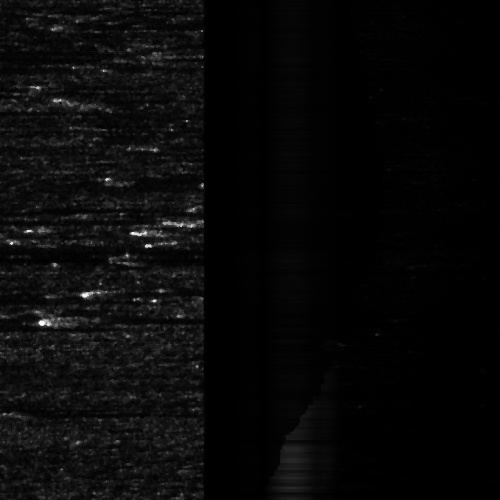object: (0, 224, 41, 265), (63, 283, 146, 300), (41, 311, 114, 322), (122, 250, 163, 265), (0, 404, 33, 417)
shadow: (0, 224, 162, 265), (0, 293, 128, 306), (105, 283, 185, 300), (143, 250, 221, 265), (6, 404, 91, 417), (0, 213, 109, 222), (78, 311, 158, 322), (0, 140, 66, 153), (0, 322, 111, 329), (0, 358, 46, 367)
